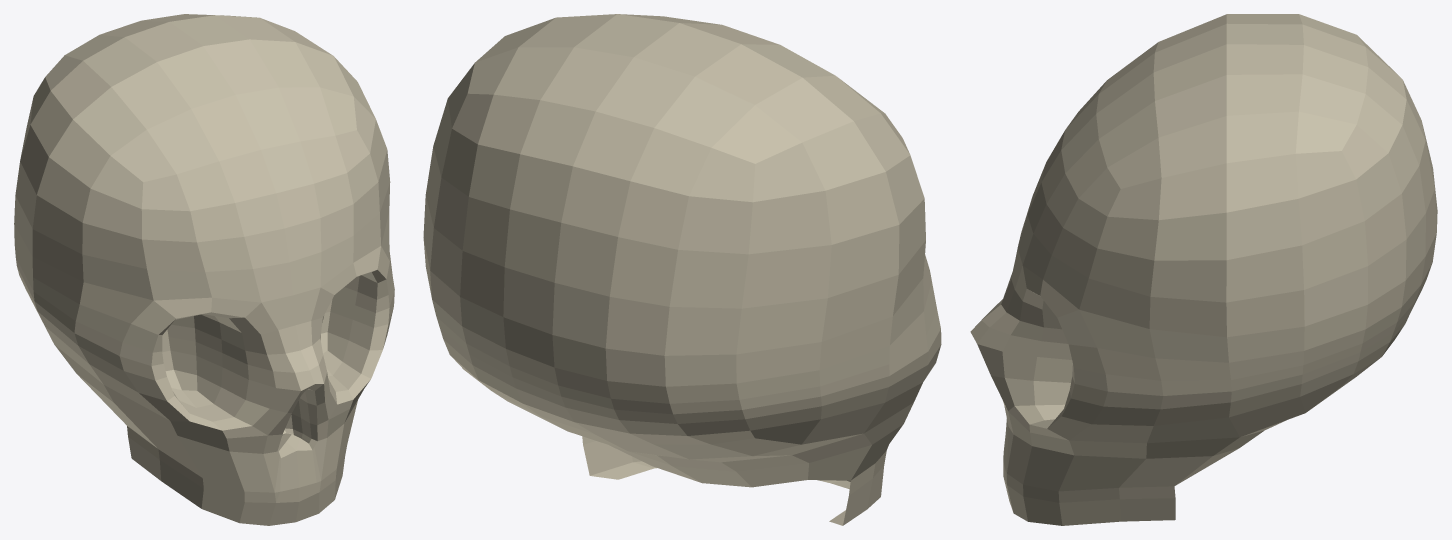
File: SkullDecor.fbx
The picture shows the model from 3 angles, left to right: view 1: azimuth 30°, elevation 25°; view 2: azimuth 150°, elevation 25°; view 3: azimuth 270°, elevation 25°; orthographic projection. The views are drawn at different scales.
Parts seen in each view (by area): view 1: Cube.018; view 2: Cube.018; view 3: Cube.018.
Part boxes in pixels (left/top/right/bottom): Cube.018: left=14, top=14, right=394, bottom=525; Cube.018: left=423, top=14, right=941, bottom=525; Cube.018: left=970, top=14, right=1437, bottom=525.
Bounding box in the file's own units: 248 × 284 × 262.
